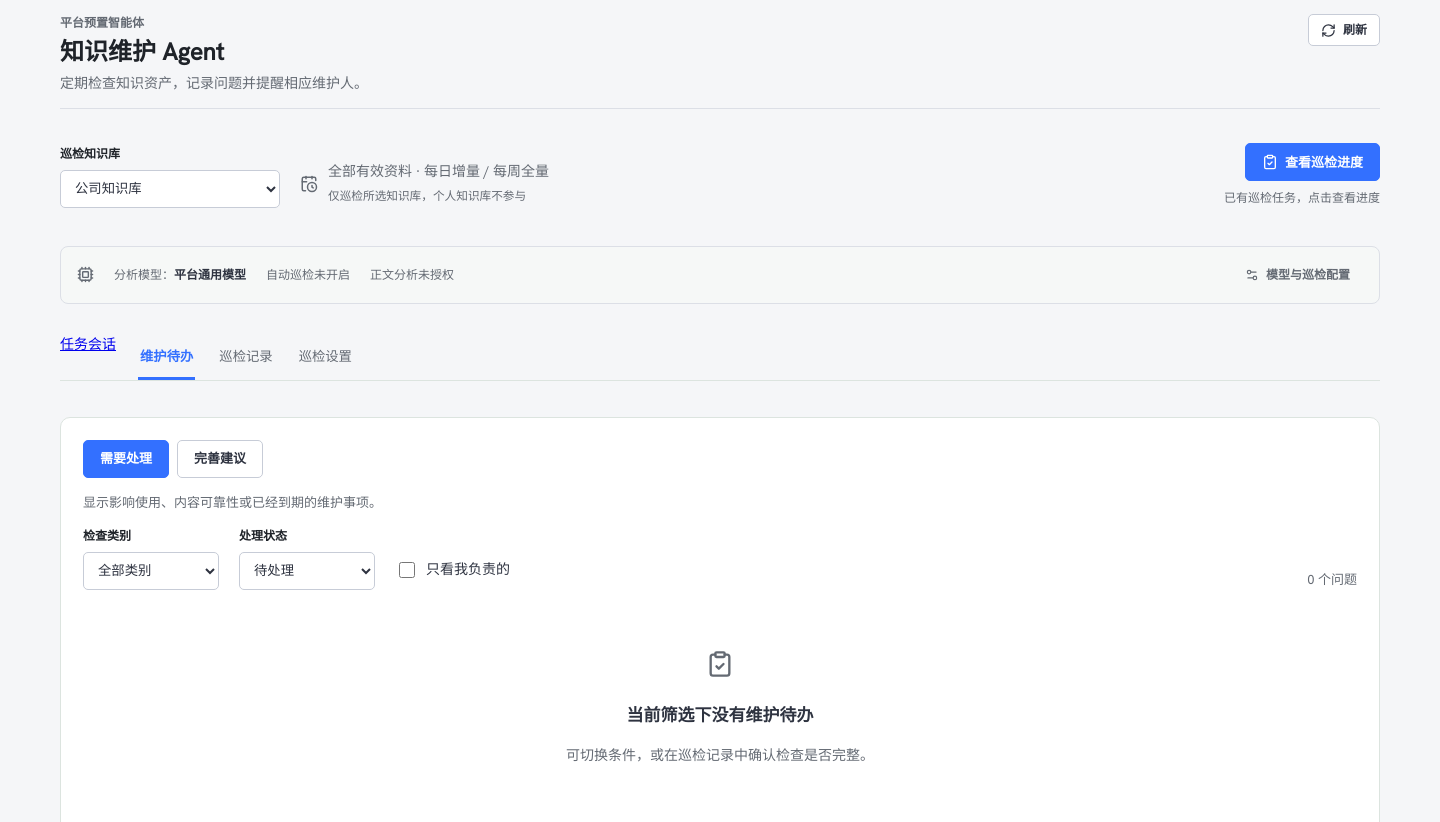
it: opens progress for a running scan instead of submitting another run
This screenshot has width=1440, height=822.
Click the button "查看巡检进度".
click(1312, 162)  # box [1245,143,1380,181]
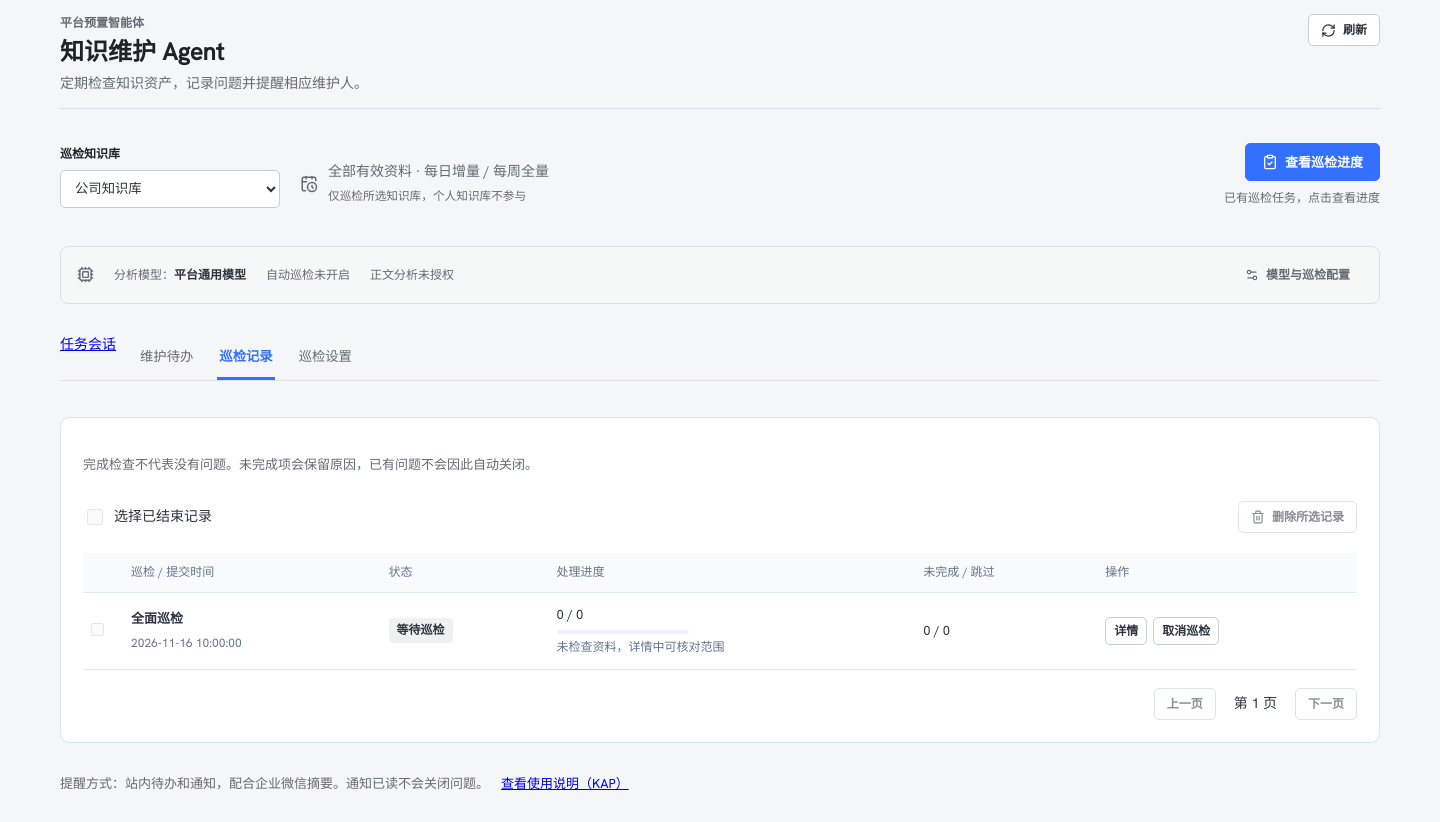
Expected: the text "等待巡检" is shown, [388,618,452,643]
